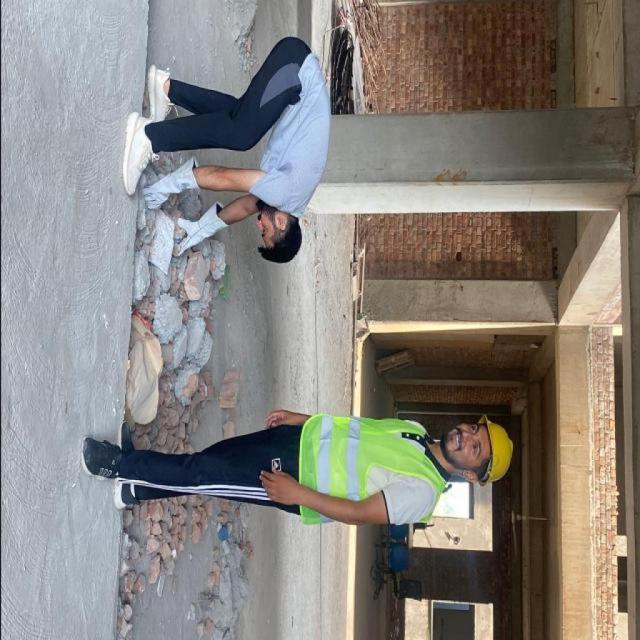Gloves-Detection: (173, 204, 226, 251), (147, 160, 199, 206)
